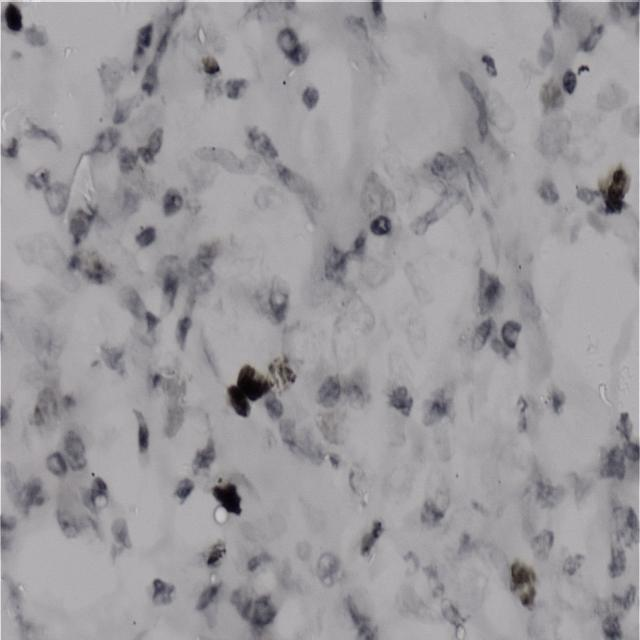Healthy cell: (19, 310, 67, 378), (603, 496, 640, 573), (26, 386, 78, 439), (186, 228, 225, 296), (158, 357, 190, 437), (330, 290, 372, 348), (340, 593, 390, 640), (274, 422, 326, 464), (416, 376, 453, 421), (357, 169, 394, 214), (152, 253, 188, 299), (408, 494, 452, 530), (97, 56, 130, 103), (542, 108, 573, 156), (263, 273, 293, 321), (14, 472, 48, 512), (58, 486, 84, 532), (243, 129, 284, 158), (614, 101, 640, 145), (528, 525, 560, 560), (41, 449, 70, 486), (0, 498, 17, 556), (115, 139, 144, 173), (535, 479, 565, 511), (598, 75, 630, 105), (546, 383, 566, 427), (46, 177, 65, 223), (318, 552, 342, 588), (225, 72, 253, 102), (557, 547, 586, 575), (24, 22, 46, 55), (146, 119, 163, 153), (534, 182, 558, 206), (574, 182, 592, 200)
cancer-cell-QiJm: (593, 153, 637, 219), (225, 589, 285, 630), (346, 513, 392, 558), (312, 239, 352, 290), (506, 556, 542, 612), (466, 268, 504, 314), (67, 250, 115, 286), (206, 476, 246, 517), (323, 396, 357, 442), (262, 379, 298, 422), (316, 365, 349, 409), (129, 410, 158, 460), (274, 26, 310, 66), (578, 18, 608, 66), (88, 473, 120, 515), (346, 365, 377, 407), (269, 348, 301, 388), (489, 319, 525, 352), (602, 438, 627, 482), (224, 382, 256, 416), (129, 20, 155, 61), (608, 406, 636, 444), (194, 46, 223, 82), (192, 433, 221, 469), (239, 360, 271, 391), (66, 209, 92, 247), (199, 533, 228, 567), (152, 570, 178, 607), (593, 603, 619, 640), (298, 80, 326, 114), (388, 380, 412, 414), (0, 132, 25, 164), (540, 79, 568, 106), (96, 125, 116, 160), (3, 0, 21, 38), (163, 182, 183, 215), (480, 45, 499, 79), (367, 216, 395, 234), (176, 474, 195, 500), (363, 0, 386, 20), (560, 68, 579, 92), (139, 226, 154, 245)
